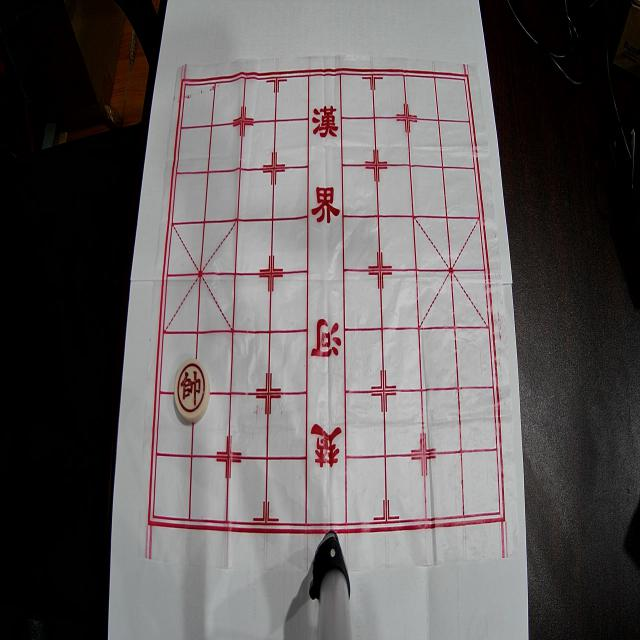red-general: (174, 358, 210, 422)
